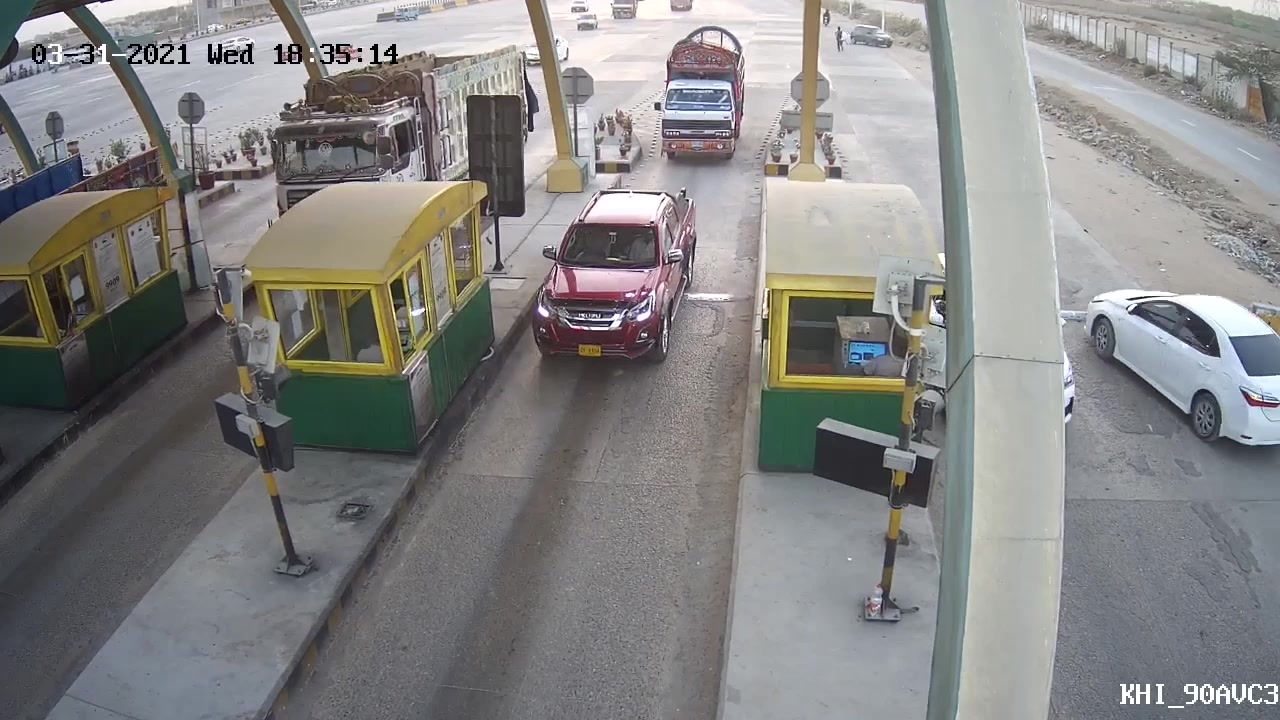F1: (519, 180, 701, 371)
F5: (650, 26, 750, 162)
